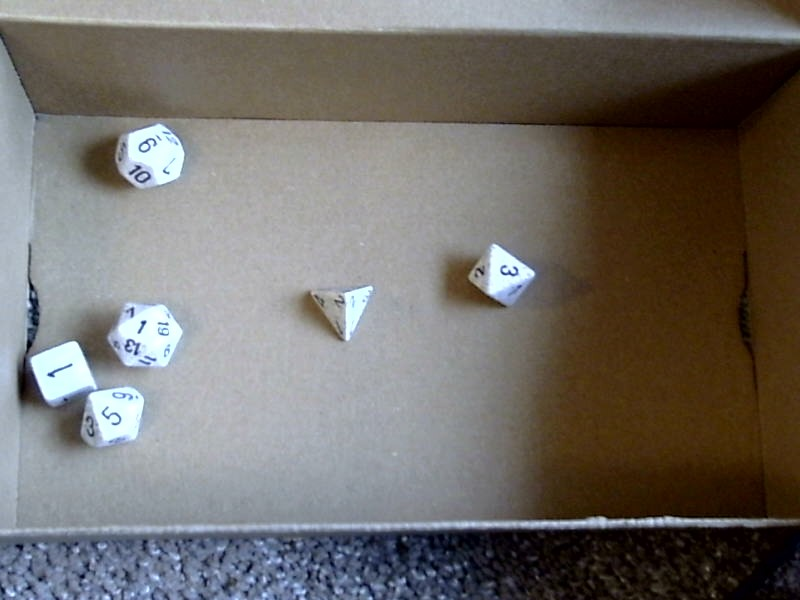d10 5: (78, 387, 154, 452)
d12 9: (113, 119, 190, 194)
d20 1: (102, 300, 184, 372)
d4 2: (302, 280, 379, 347)
d6 1: (19, 332, 97, 411)
d8 3: (460, 241, 539, 315)
